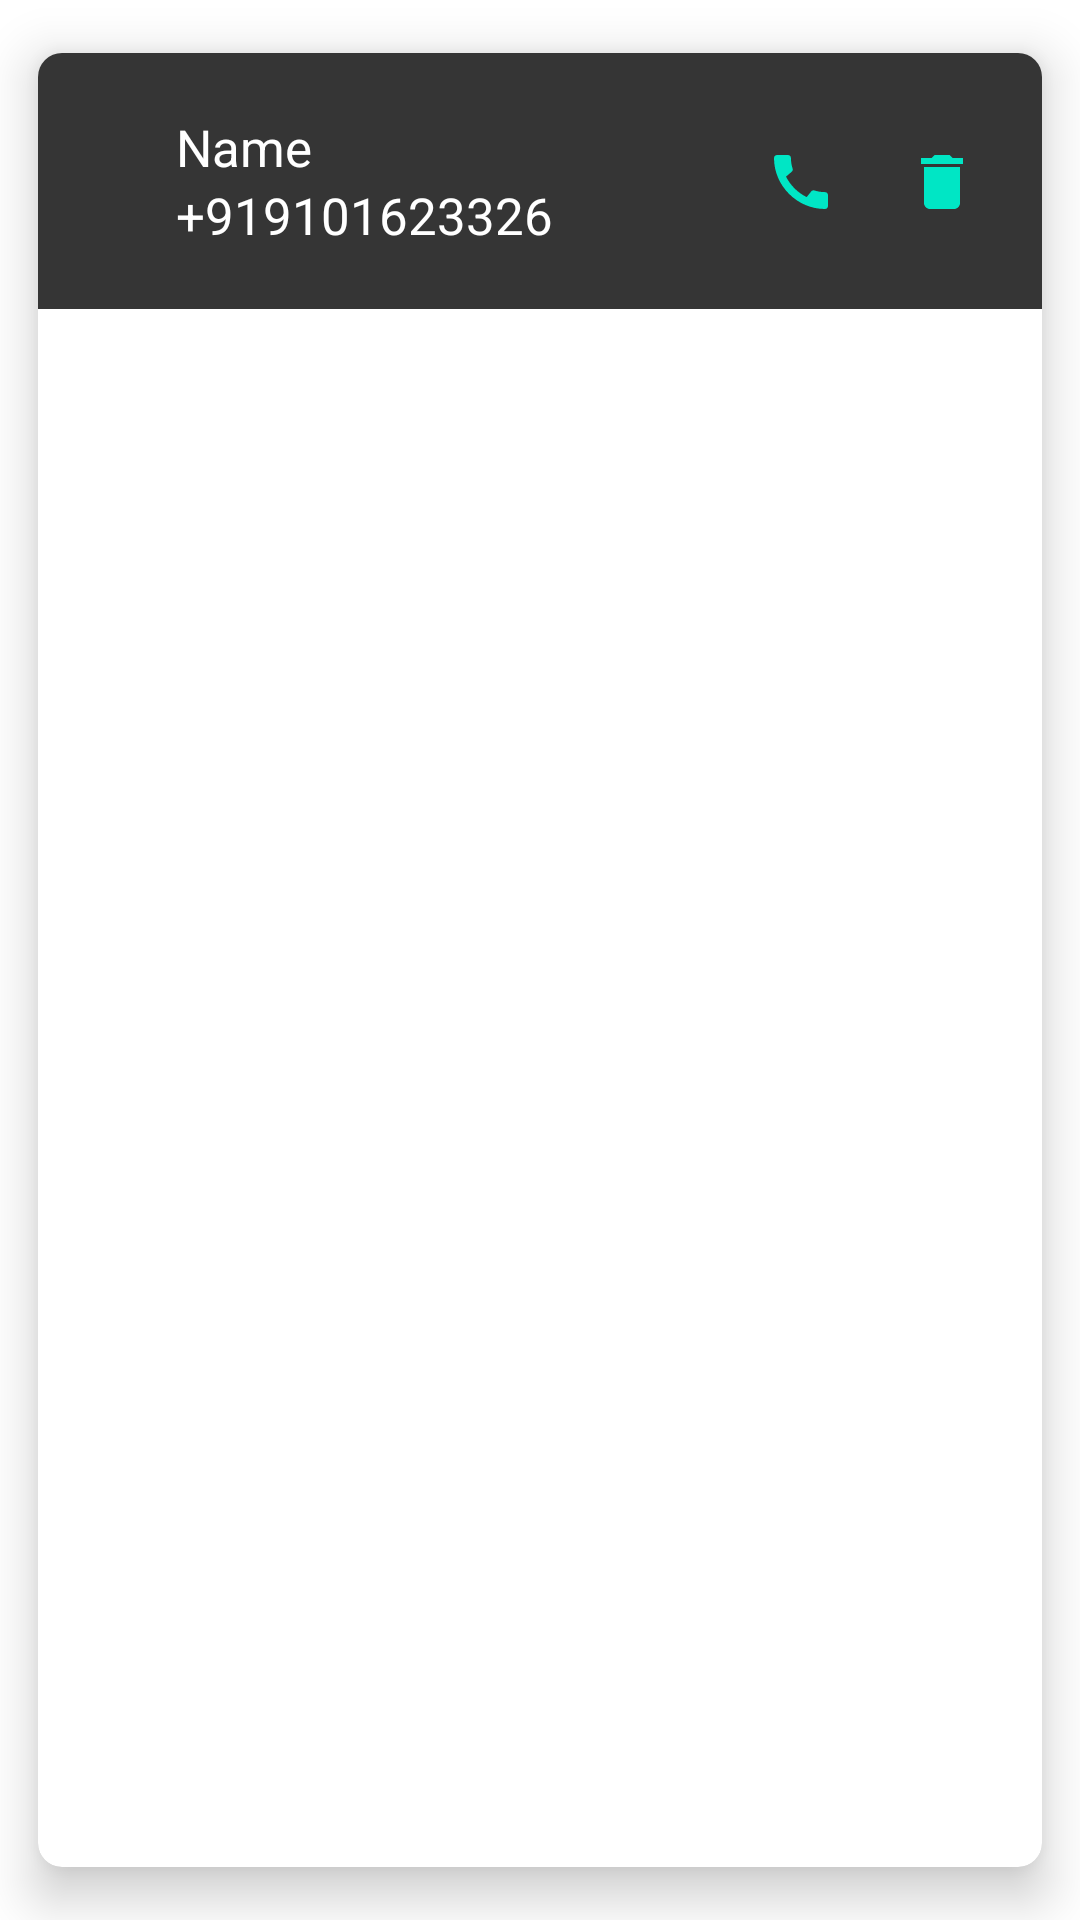

Named icons in this screenshot (1080*1920) and their bounding boxes, (x1,y1,x2,y2):
delete: (921,155,963,209)
phone call: (774,155,828,209)
